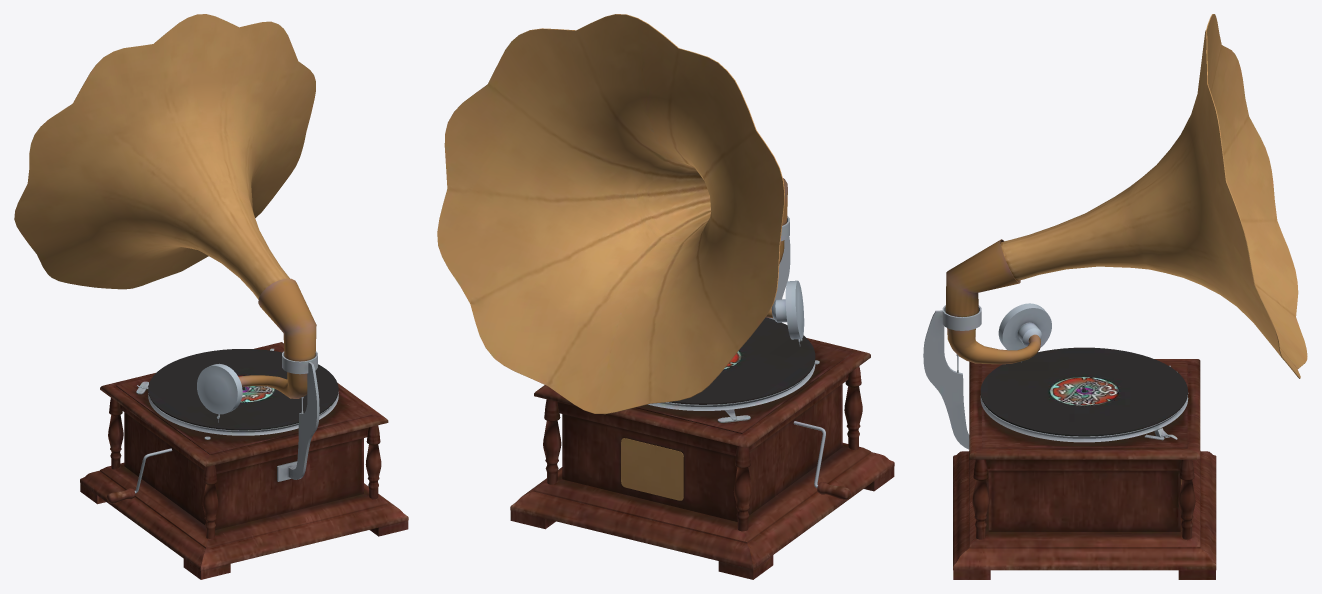
Rendered from gramophone.glb.
3 views of the same model, side by side, from view 1: azimuth 30°, elevation 25°; view 2: azimuth 150°, elevation 25°; view 3: azimuth 270°, elevation 25° (orthographic). The views are drawn at different scales.
Visible parts, largest first — view 1: HornMainPart_Lowpoly, Body_Lowpoly, Vinyl_Lowpoly, HornMiddlePart_Lowpoly, MetalCylinder_Lowpoly, Attatchment_Lowpoly, HornStart_Lowpoly, RecordPlate_Lowpoly, Pillar3_Lowpoly, Pillar2_Lowpoly, Pillar1_Lowpoly; view 2: HornMainPart_Lowpoly, Body_Lowpoly, Vinyl_Lowpoly, MetalSign_Lowpoly, MetalCylinder_Lowpoly, Pillar1_Lowpoly, Pillar4_Lowpoly, Pillar2_Lowpoly, RecordPlate_Lowpoly, Foot1_Lowpoly; view 3: Body_Lowpoly, HornMainPart_Lowpoly, Vinyl_Lowpoly, HornMiddlePart_Lowpoly, Attatchment_Lowpoly, MetalCylinder_Lowpoly, HornStart_Lowpoly, RecordPlate_Lowpoly, Pillar4_Lowpoly, Pillar3_Lowpoly, ConnectRing_Lowpoly.
Part boxes in pixels (x1=…): HornMainPart_Lowpoly: x1=14, y1=14, x2=315, y2=299; Body_Lowpoly: x1=80, y1=342, x2=408, y2=570; Vinyl_Lowpoly: x1=148, y1=349, x2=338, y2=430; HornMiddlePart_Lowpoly: x1=258, y1=278, x2=316, y2=361; MetalCylinder_Lowpoly: x1=197, y1=363, x2=242, y2=414; Attatchment_Lowpoly: x1=277, y1=362, x2=319, y2=481; HornStart_Lowpoly: x1=238, y1=372, x2=307, y2=398; RecordPlate_Lowpoly: x1=148, y1=392, x2=338, y2=435; Pillar3_Lowpoly: x1=365, y1=425, x2=381, y2=499; Pillar2_Lowpoly: x1=202, y1=465, x2=218, y2=539; Pillar1_Lowpoly: x1=108, y1=398, x2=123, y2=469; HornMainPart_Lowpoly: x1=437, y1=14, x2=784, y2=414; Body_Lowpoly: x1=510, y1=338, x2=894, y2=569; Vinyl_Lowpoly: x1=668, y1=317, x2=815, y2=404; MetalSign_Lowpoly: x1=621, y1=438, x2=683, y2=500; MetalCylinder_Lowpoly: x1=771, y1=280, x2=804, y2=339; Pillar1_Lowpoly: x1=733, y1=446, x2=751, y2=531; Pillar4_Lowpoly: x1=543, y1=399, x2=561, y2=484; Pillar2_Lowpoly: x1=844, y1=366, x2=862, y2=449; RecordPlate_Lowpoly: x1=648, y1=361, x2=815, y2=410; Foot1_Lowpoly: x1=718, y1=555, x2=773, y2=579; Body_Lowpoly: x1=953, y1=359, x2=1216, y2=570; HornMainPart_Lowpoly: x1=1001, y1=14, x2=1307, y2=378; Vinyl_Lowpoly: x1=980, y1=347, x2=1187, y2=436; HornMiddlePart_Lowpoly: x1=945, y1=239, x2=1020, y2=317; Attatchment_Lowpoly: x1=923, y1=310, x2=969, y2=449; MetalCylinder_Lowpoly: x1=998, y1=303, x2=1051, y2=350; HornStart_Lowpoly: x1=947, y1=328, x2=1040, y2=364; RecordPlate_Lowpoly: x1=980, y1=393, x2=1188, y2=442; Pillar4_Lowpoly: x1=1178, y1=459, x2=1195, y2=539; Pillar3_Lowpoly: x1=972, y1=459, x2=989, y2=539; ConnectRing_Lowpoly: x1=942, y1=305, x2=981, y2=330.
Bounding box in the file's own units: 114 × 168 × 119.
Materials: 1 (1 with a texture image).
